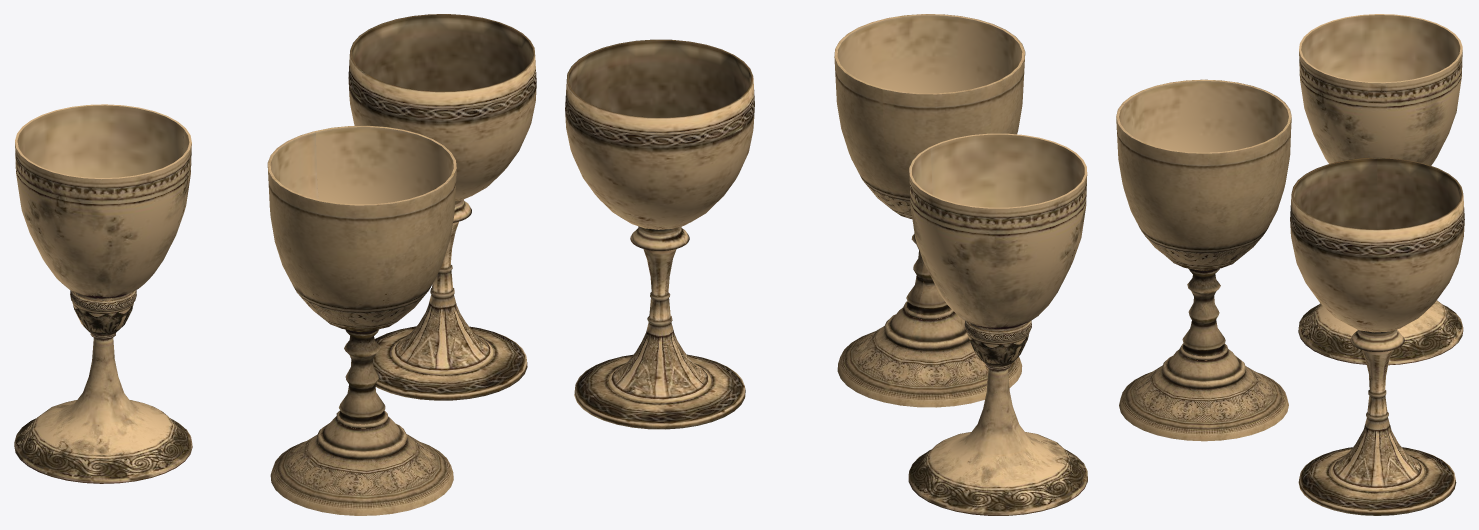
The model's file is brass_goblets.gltf.
3 views of the same model, side by side, from view 1: azimuth 30°, elevation 25°; view 2: azimuth 150°, elevation 25°; view 3: azimuth 270°, elevation 25° (orthographic). The views are drawn at different scales.
Visible parts, largest first — view 1: brass_goblet_01, brass_goblet_02, brass_goblet_03; view 2: brass_goblet_02, brass_goblet_03, brass_goblet_01; view 3: brass_goblet_01, brass_goblet_03, brass_goblet_02.
Boxes of the visible parts, x1,y1,x2,y2 form: brass_goblet_01: (267,125,456,515); brass_goblet_02: (14,104,192,483); brass_goblet_03: (348,14,536,400); brass_goblet_02: (908,133,1087,515); brass_goblet_03: (565,39,754,429); brass_goblet_01: (834,14,1025,407); brass_goblet_01: (1116,79,1291,441); brass_goblet_03: (1290,157,1464,515); brass_goblet_02: (1298,14,1463,365).
Size of the model in its own units: 0.4534 by 0.2734 by 0.2979.
3 materials, 3 textured.
